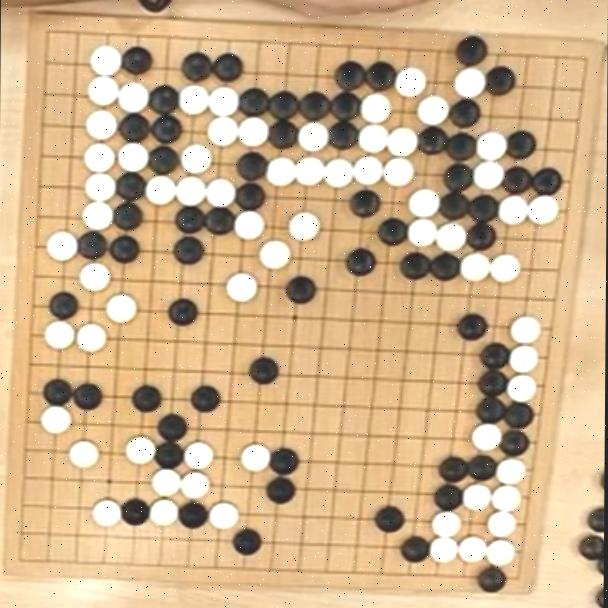corners: (29, 16, 69, 54), (562, 44, 604, 78), (502, 560, 536, 600), (7, 540, 39, 582)
